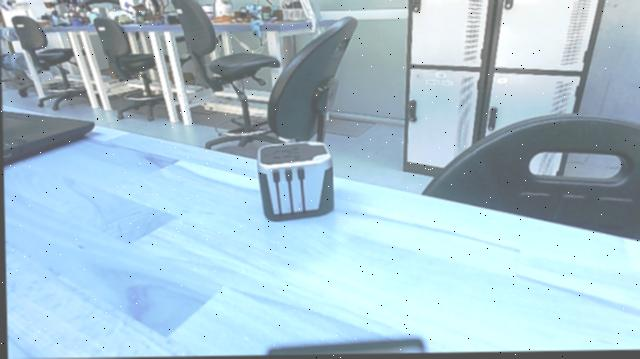adapter: (251, 135, 339, 235)
